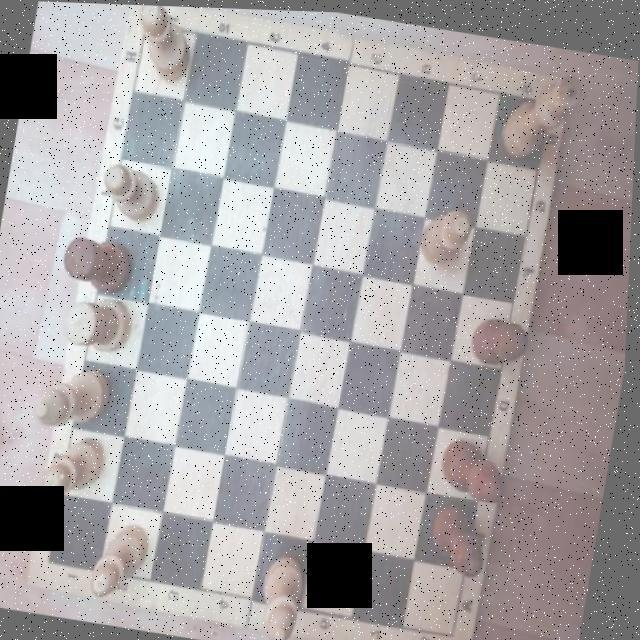chess-table-corners: (519, 70, 572, 138), (32, 527, 82, 593), (122, 4, 174, 61), (428, 597, 480, 640)
